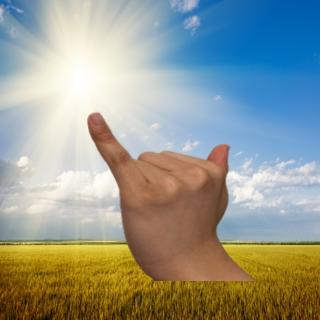HAVE: (77, 106, 245, 278)
